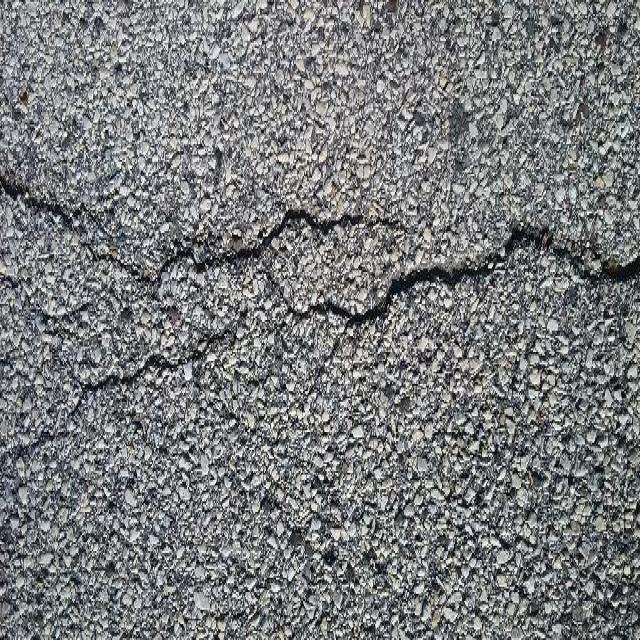GRIETA: (310, 226, 639, 324), (155, 209, 408, 280), (0, 171, 146, 286), (81, 328, 229, 398)
